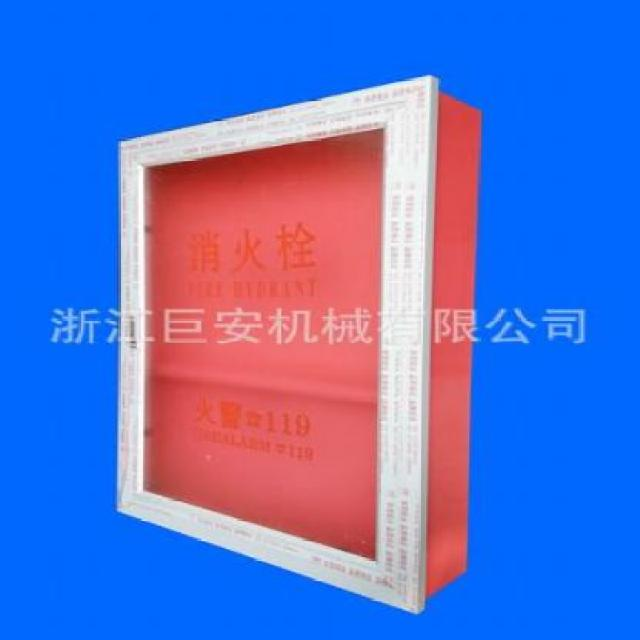firehydrant: (112, 70, 483, 622)
